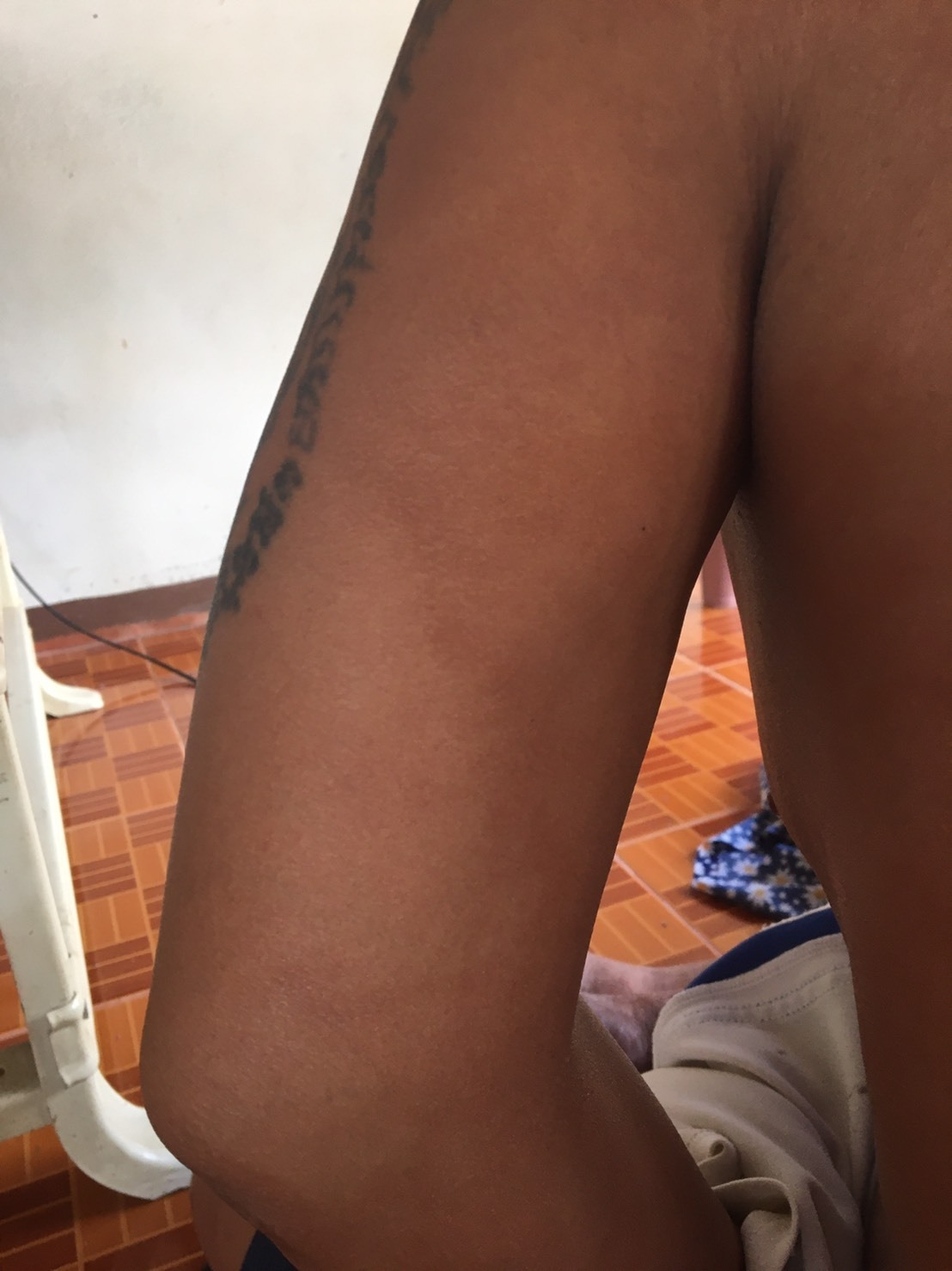Leprosy: (132, 449, 515, 1231)
